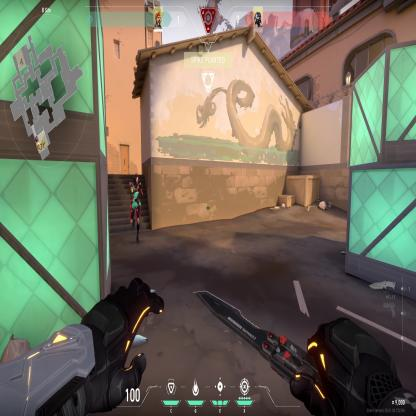enemy: (128, 171, 142, 245)
